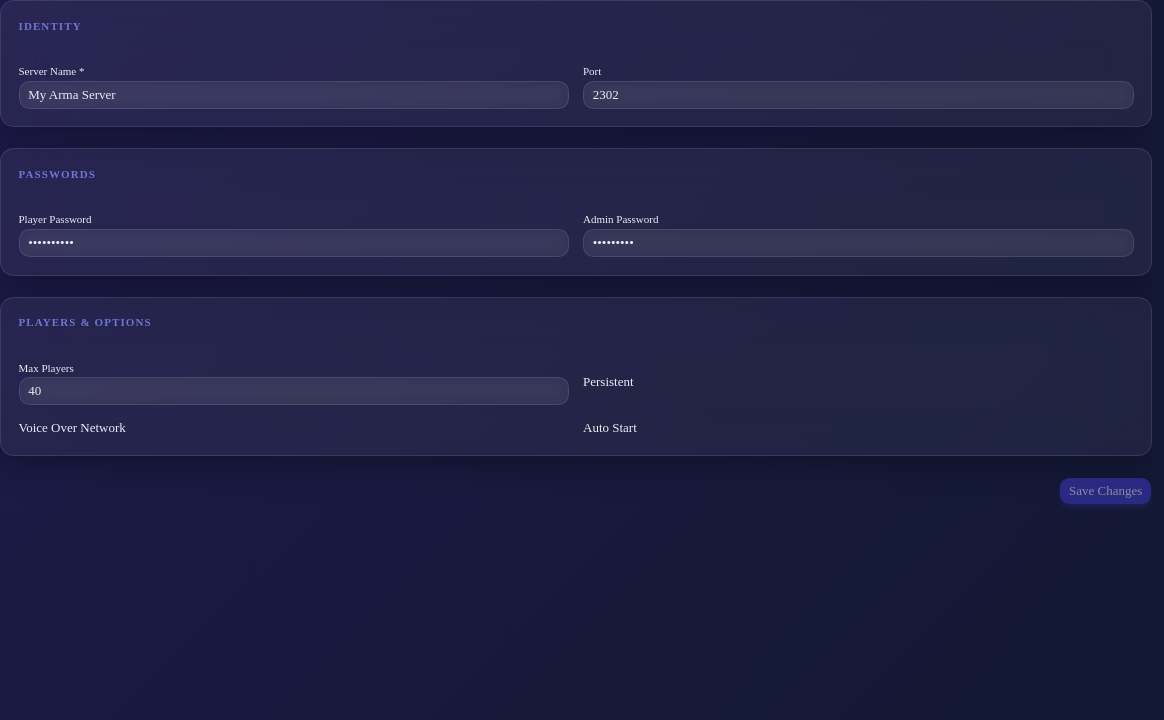
GeneralTab › shows validation error when title is cleared
Clear the field labelled "Server Name *" at [294, 95], box 18,81 -> 569,109
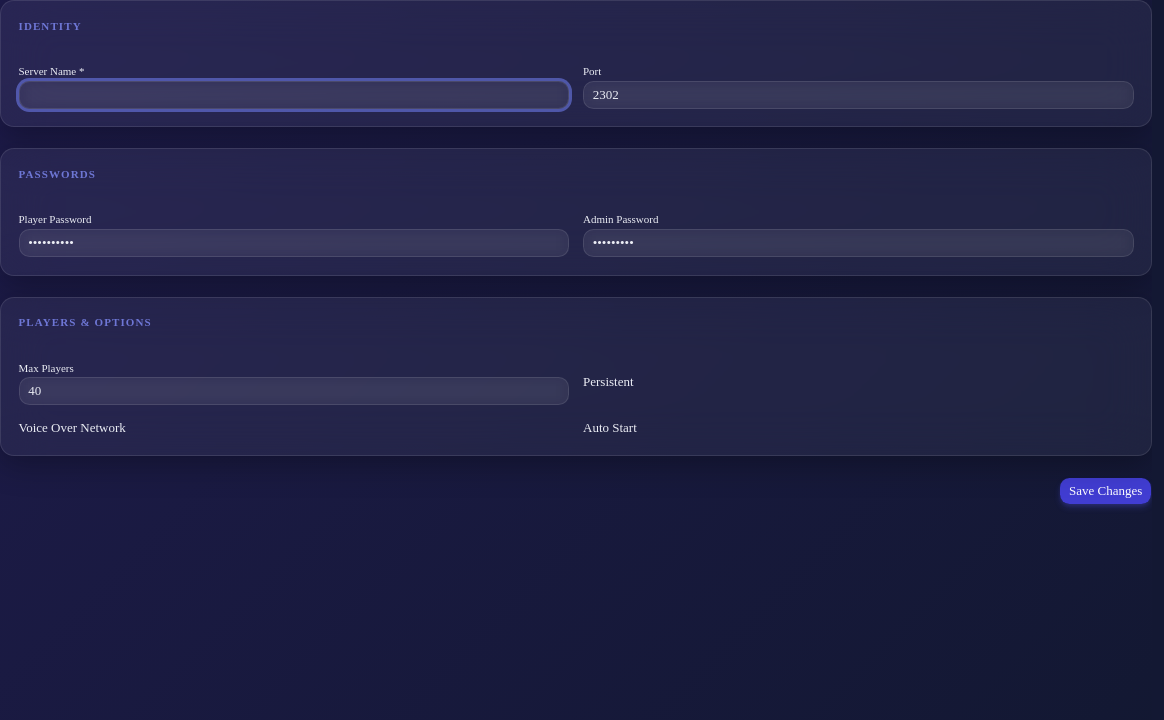
Click the button "Save Changes" at [1106, 491], box 1059,477 -> 1152,505
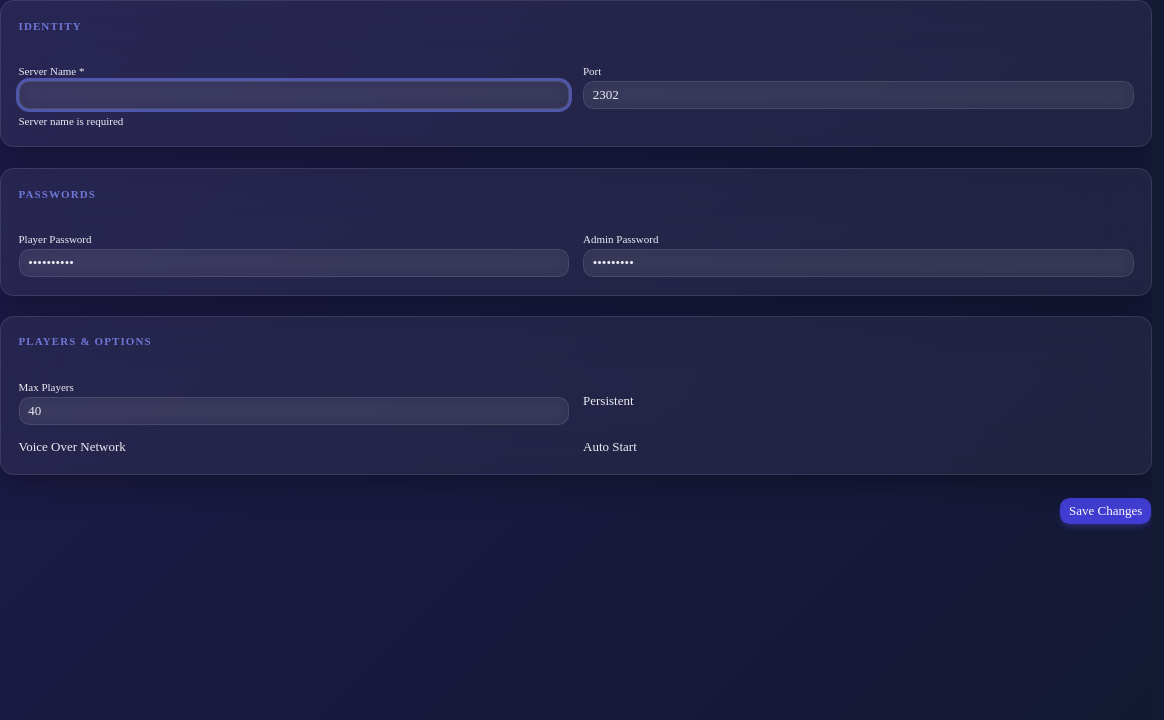
Check: the text "Server name is required" is shown, box 18,115 -> 123,127
